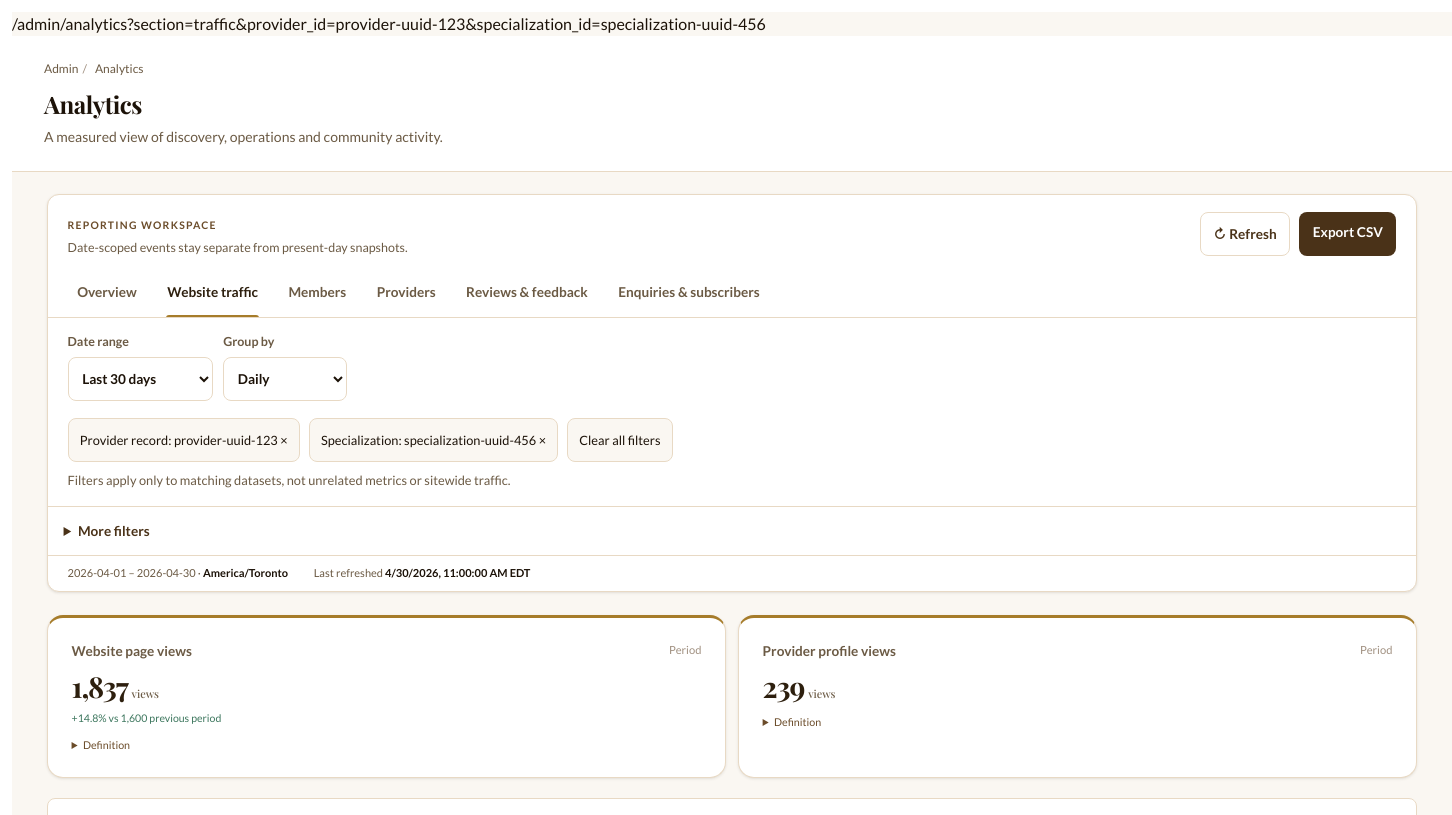
AnalyticsPage › hides advanced filters and exposes removable labels for deep-linked record filters
The image size is (1452, 815).
Expected: the text "1,837" is shown, [72,667,128,705]
Expected: the text "More filters" is shown, [48,506,1416,555]
Step 1. Click the button with aria-label "Remove Provider record filter" → click(184, 440), box [68,418,300,462]
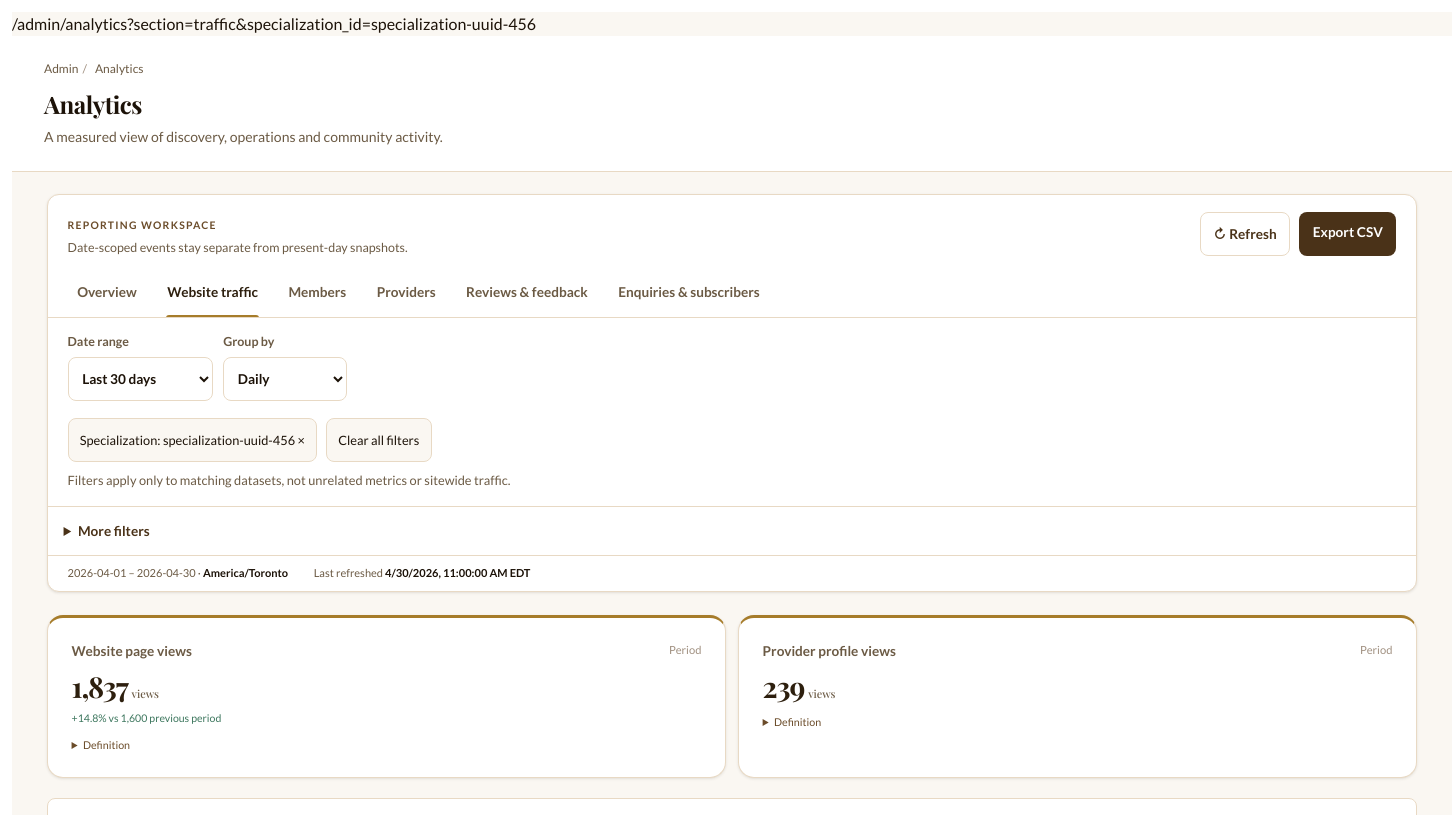
Expected: the button with aria-label "Remove Specialization filter" is shown, [68,418,317,462]
Expected: the text with test id "location" no longer shows "provider_id="
